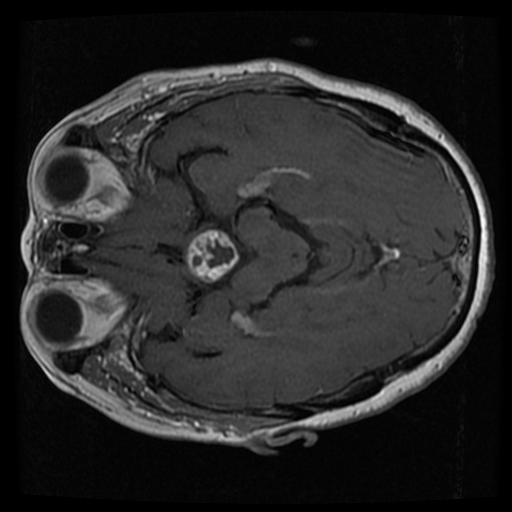pituitary tumour: (184, 227, 240, 283)
